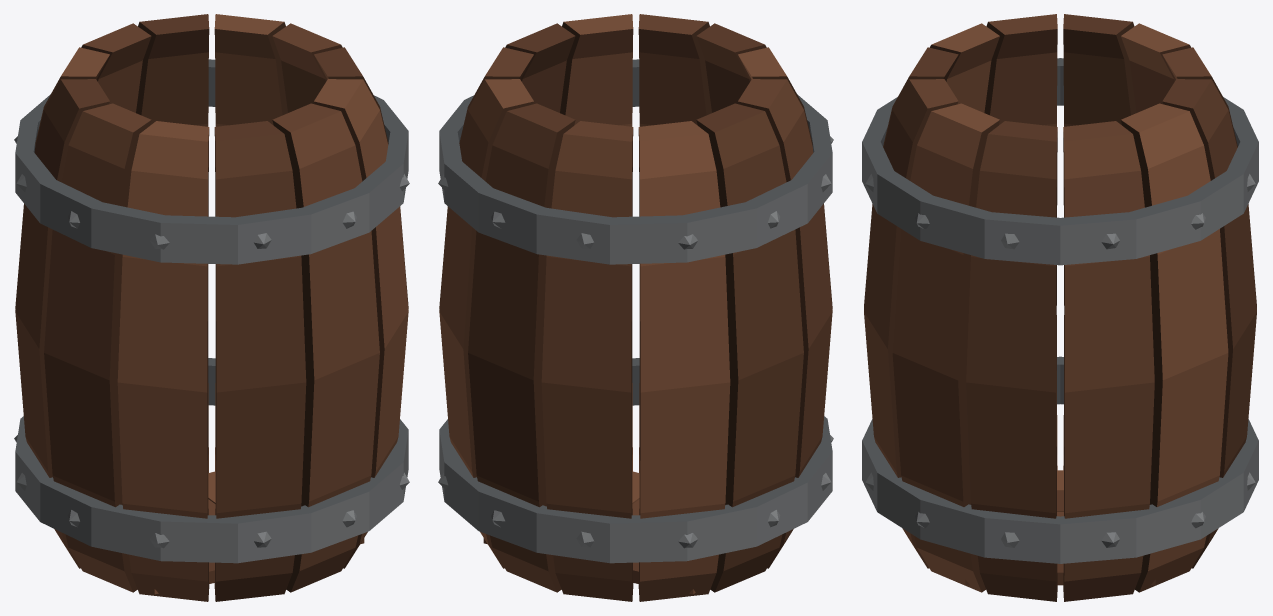
Rendered from Wooden Barrel.glb.
The picture shows the model from 3 angles, left to right: view 1: azimuth 30°, elevation 25°; view 2: azimuth 150°, elevation 25°; view 3: azimuth 270°, elevation 25°; orthographic projection.
Visible parts, largest first — view 1: Wooden Barrel; view 2: Wooden Barrel; view 3: Wooden Barrel.
Part boxes in pixels (x1=…): Wooden Barrel: x1=14, y1=14, x2=409, y2=601; Wooden Barrel: x1=438, y1=14, x2=833, y2=601; Wooden Barrel: x1=862, y1=14, x2=1258, y2=601.
Size of the model in its own units: 0.7033 by 0.9 by 0.7033.
